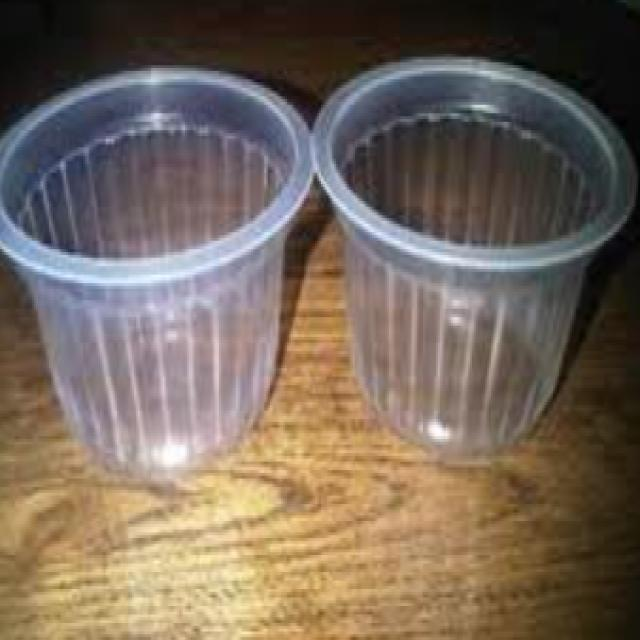GelasPlastik: (310, 51, 638, 464), (0, 62, 313, 478)
